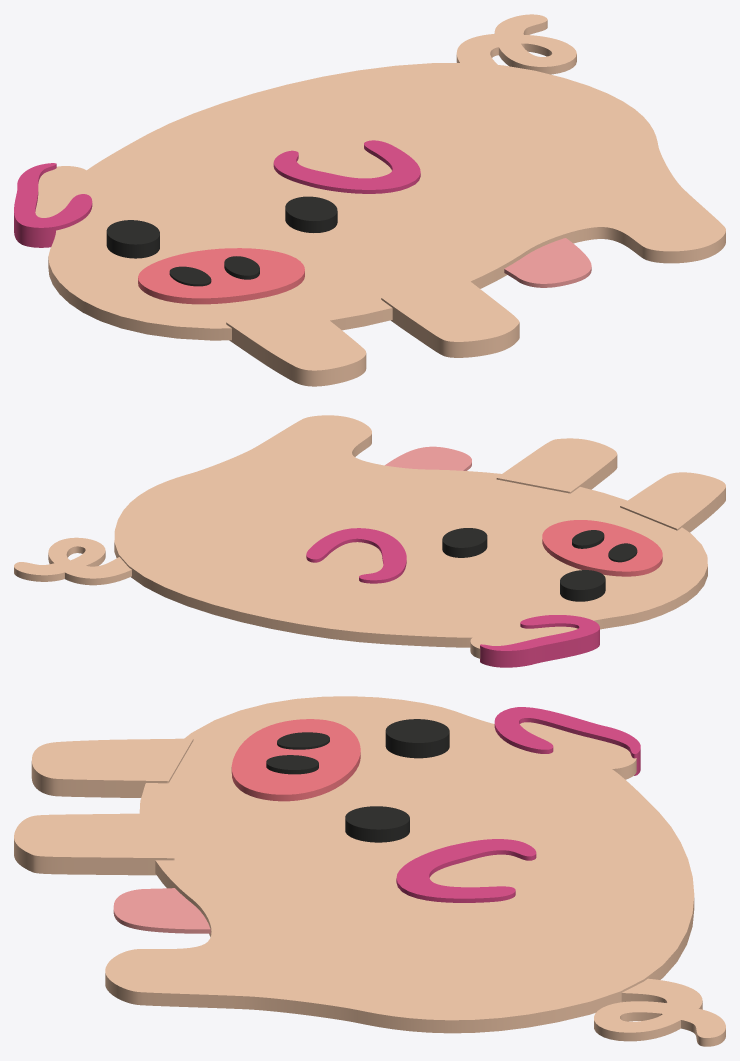
The model's file is emoji_u1f416.glb.
The picture shows the model from 3 angles, top to bottom: view 1: azimuth 30°, elevation 25°; view 2: azimuth 150°, elevation 25°; view 3: azimuth 270°, elevation 25°; orthographic projection. The views are drawn at different scales.
Parts seen in each view (by area): view 1: emoji_u1f416; view 2: emoji_u1f416; view 3: emoji_u1f416.
Boxes of the visible parts, x1,y1,x2,y2 form: emoji_u1f416: (14,14,725,386); emoji_u1f416: (14,415,725,667); emoji_u1f416: (14,696,725,1046).
Bounding box in the file's own units: 0.0335 × 0.002 × 0.0297.
